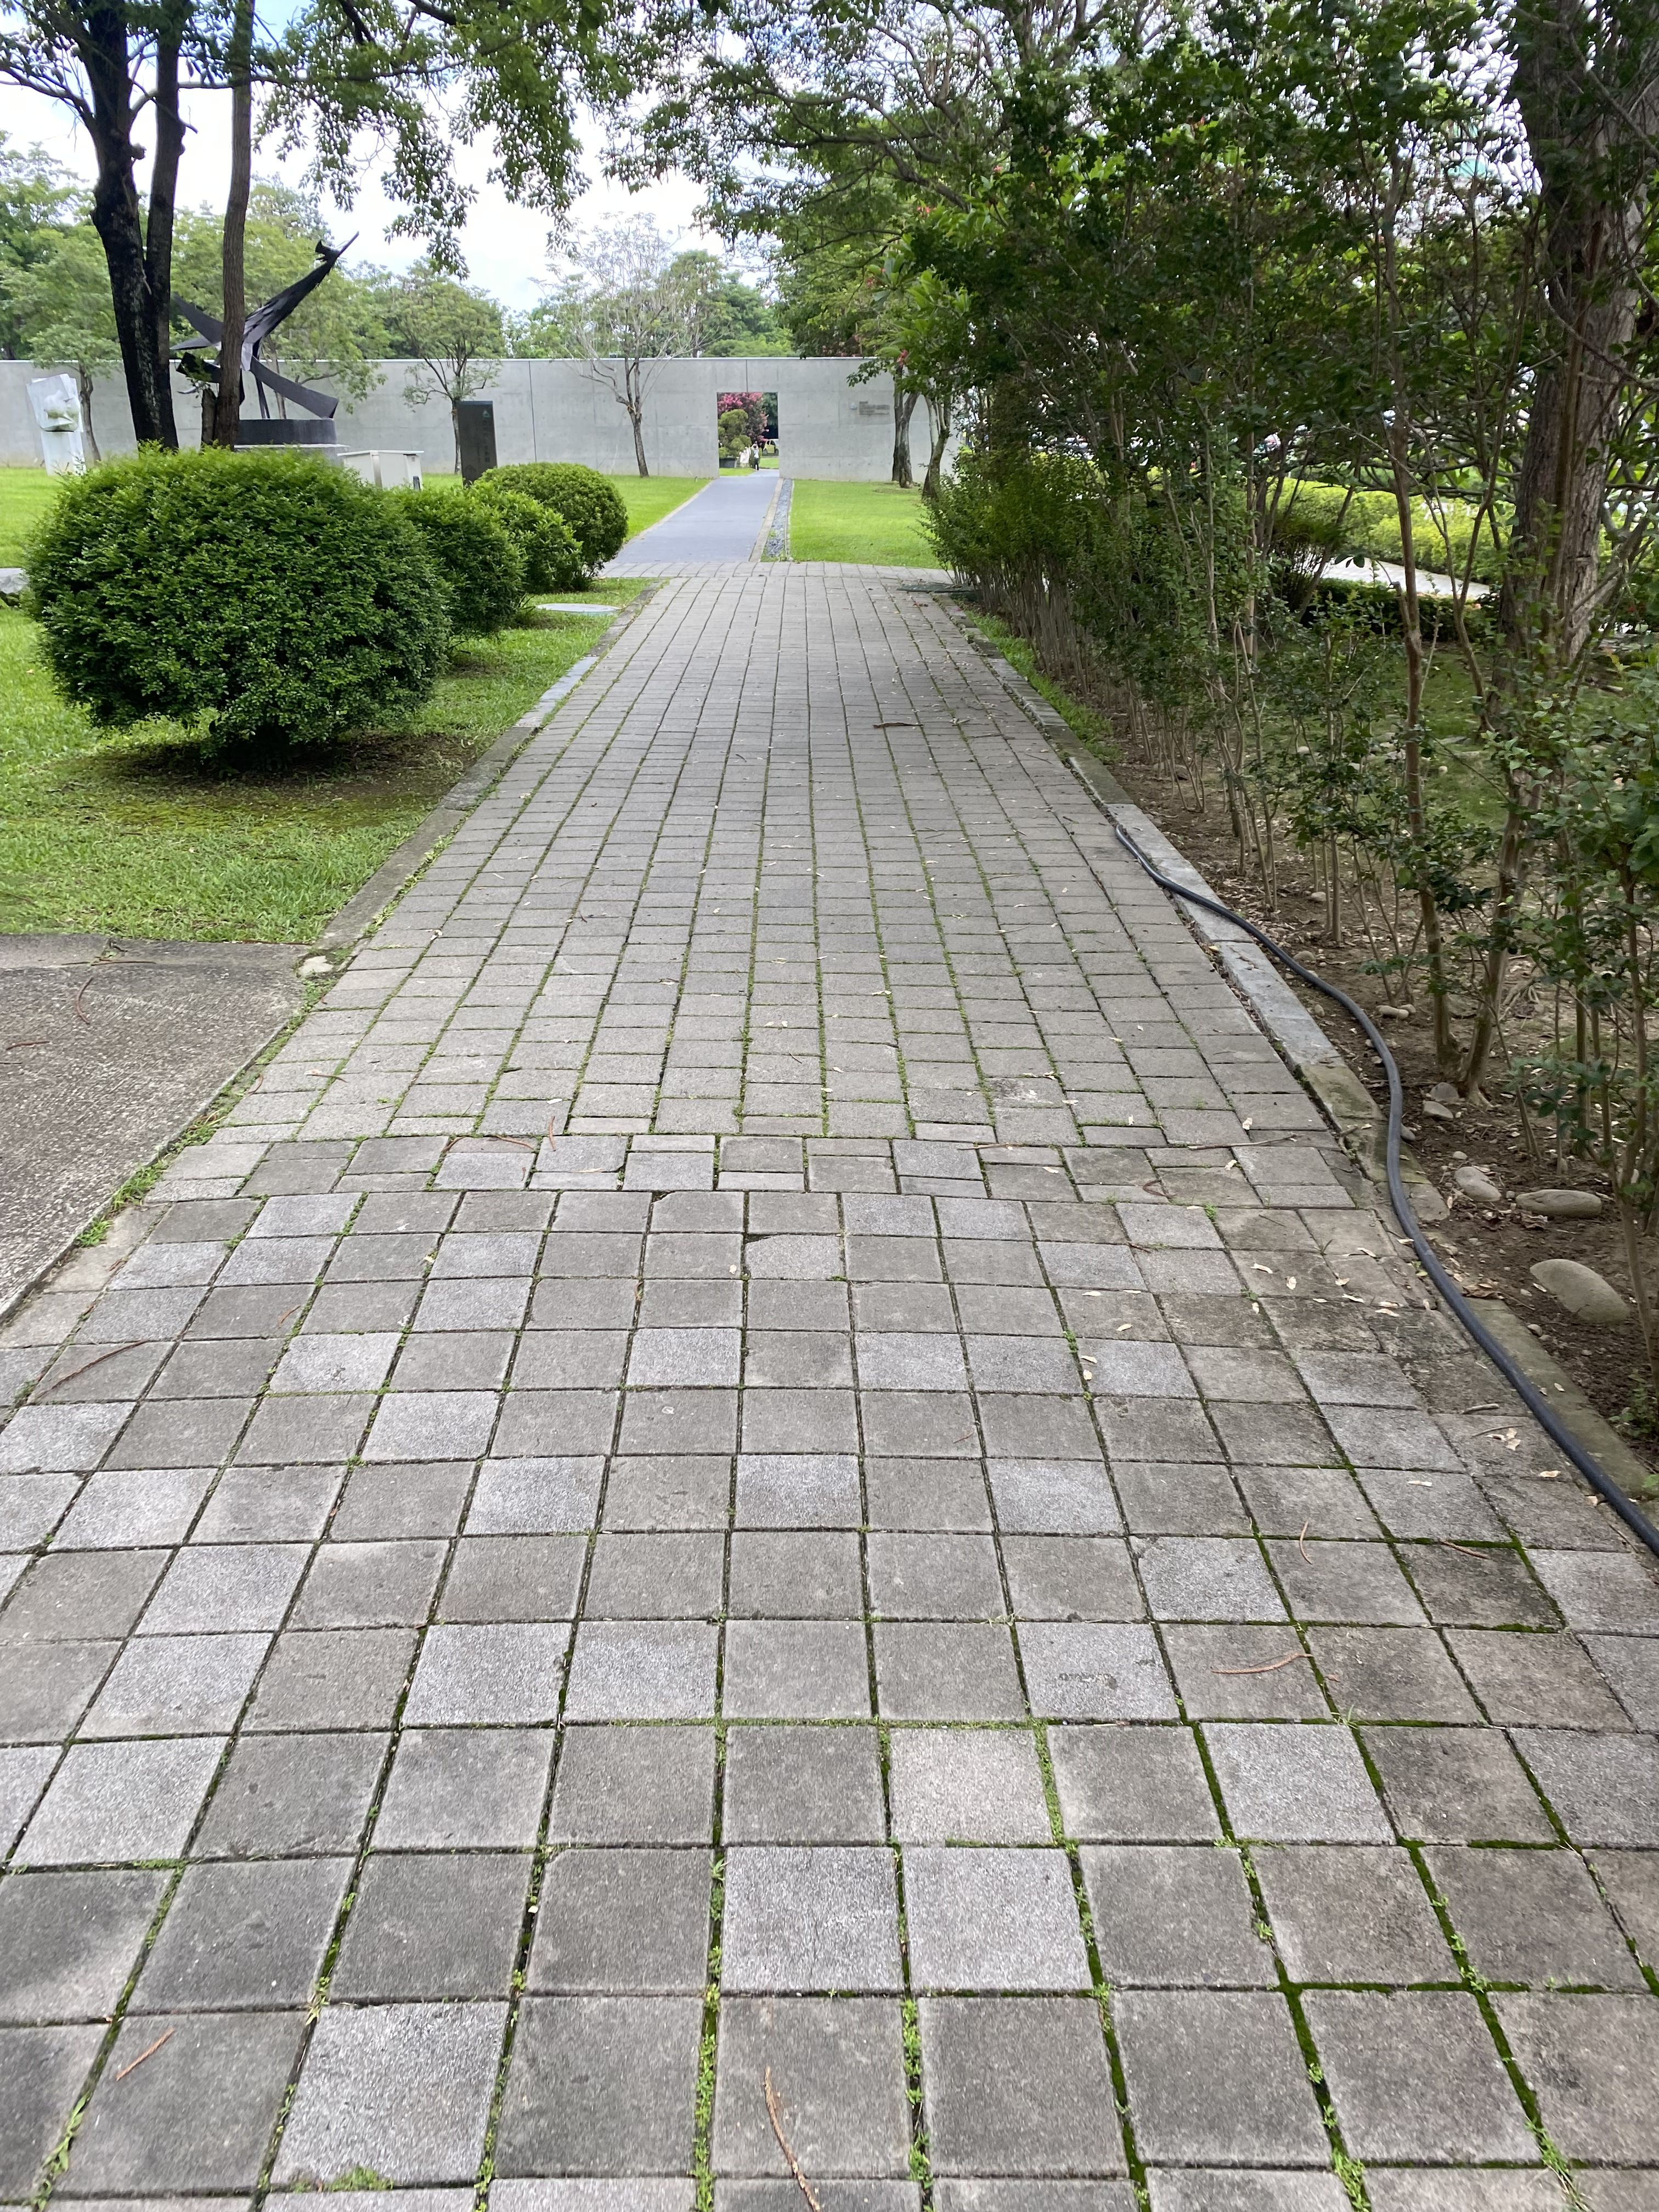0: (336, 411, 1239, 956)
sidewalk: (5, 927, 1659, 2212)
